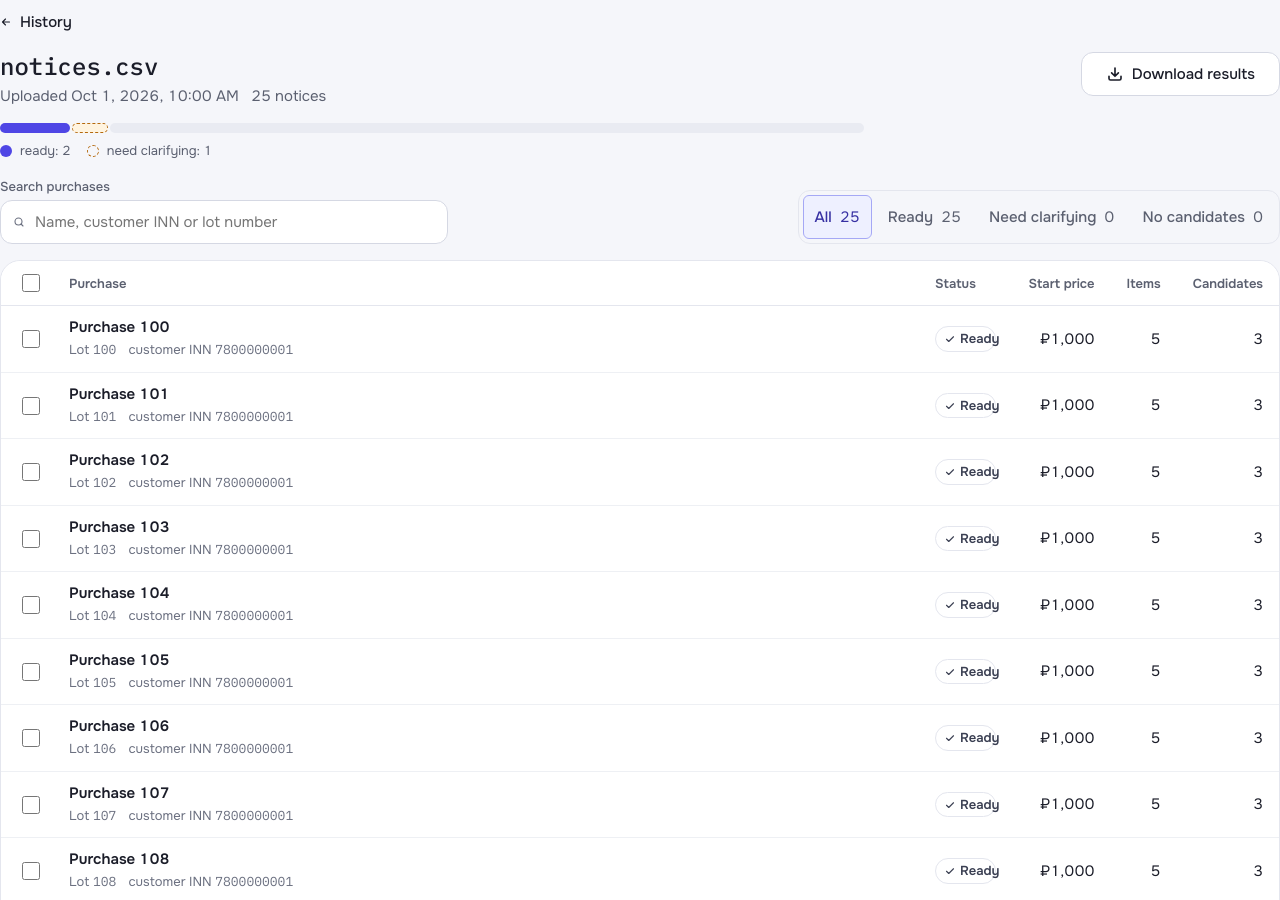
Test: the purchases list controls › clears the search with a button or Escape and focuses it with a slash
The image size is (1280, 900).
Type "101" into the search field labelled "Search purchases" at (240, 222), box [33,210,447,234]
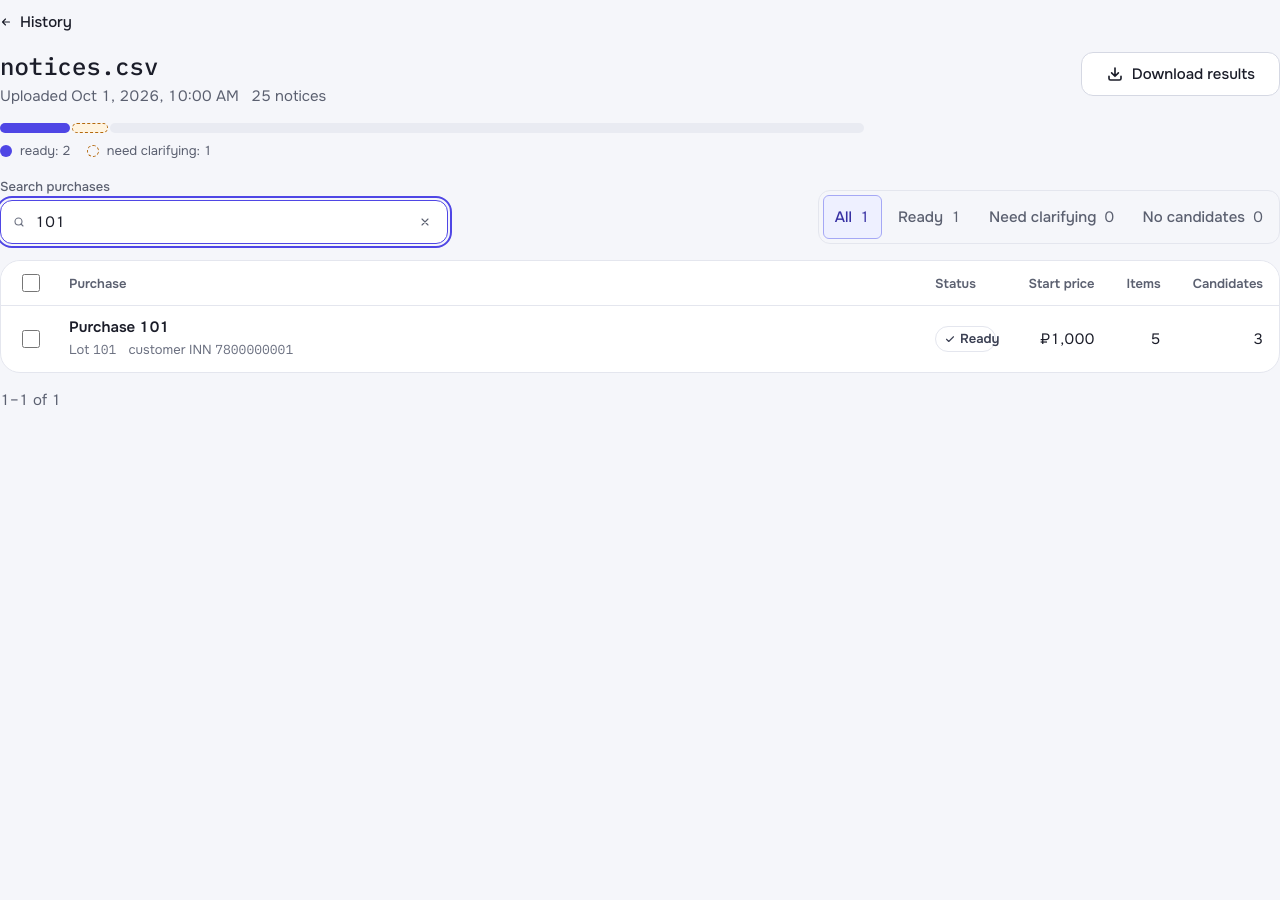
Click the button named "Clear search" at (425, 222), box [403,201,447,243]
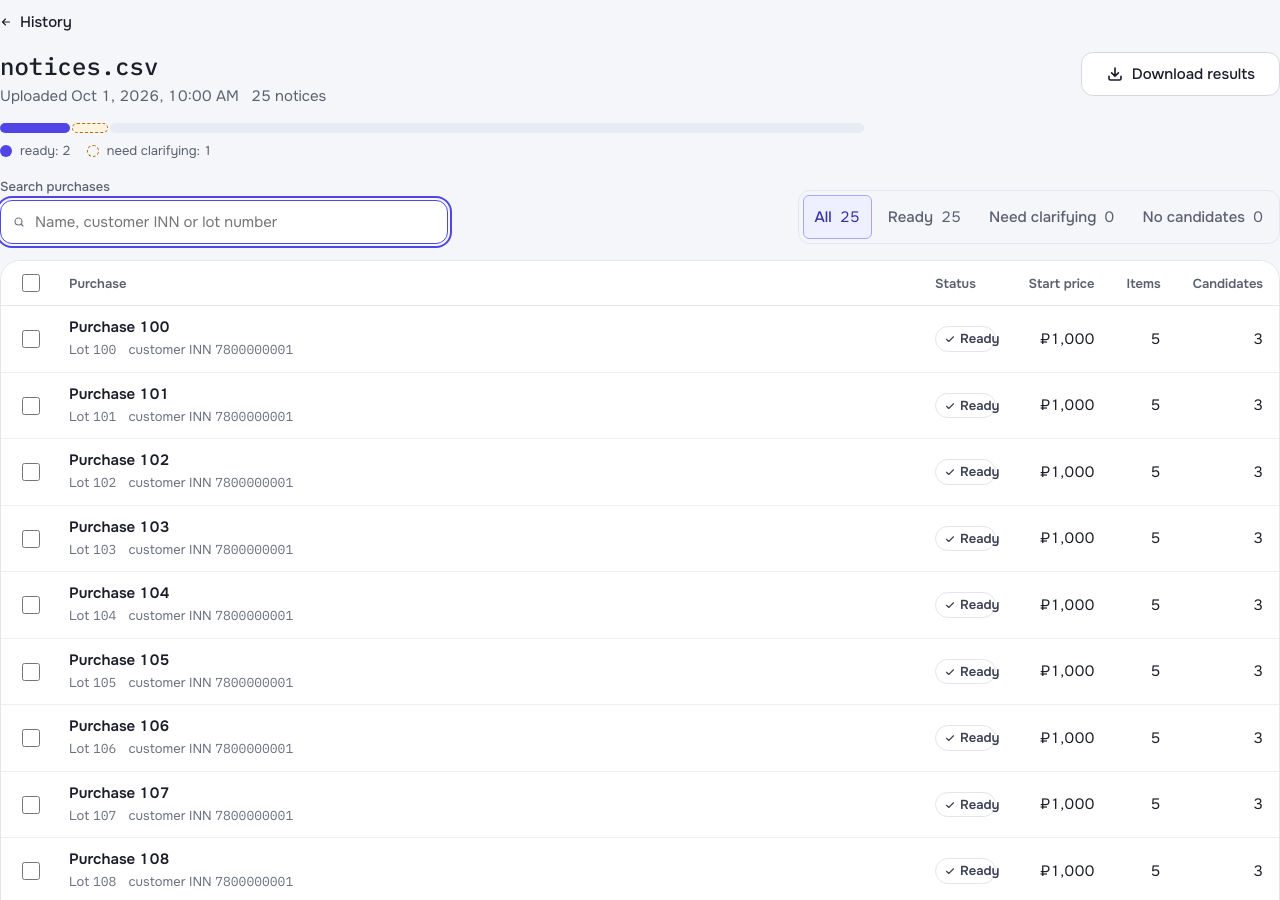
Type "10" into the search field labelled "Search purchases" at (240, 222), box [33,210,447,234]
Then press Escape
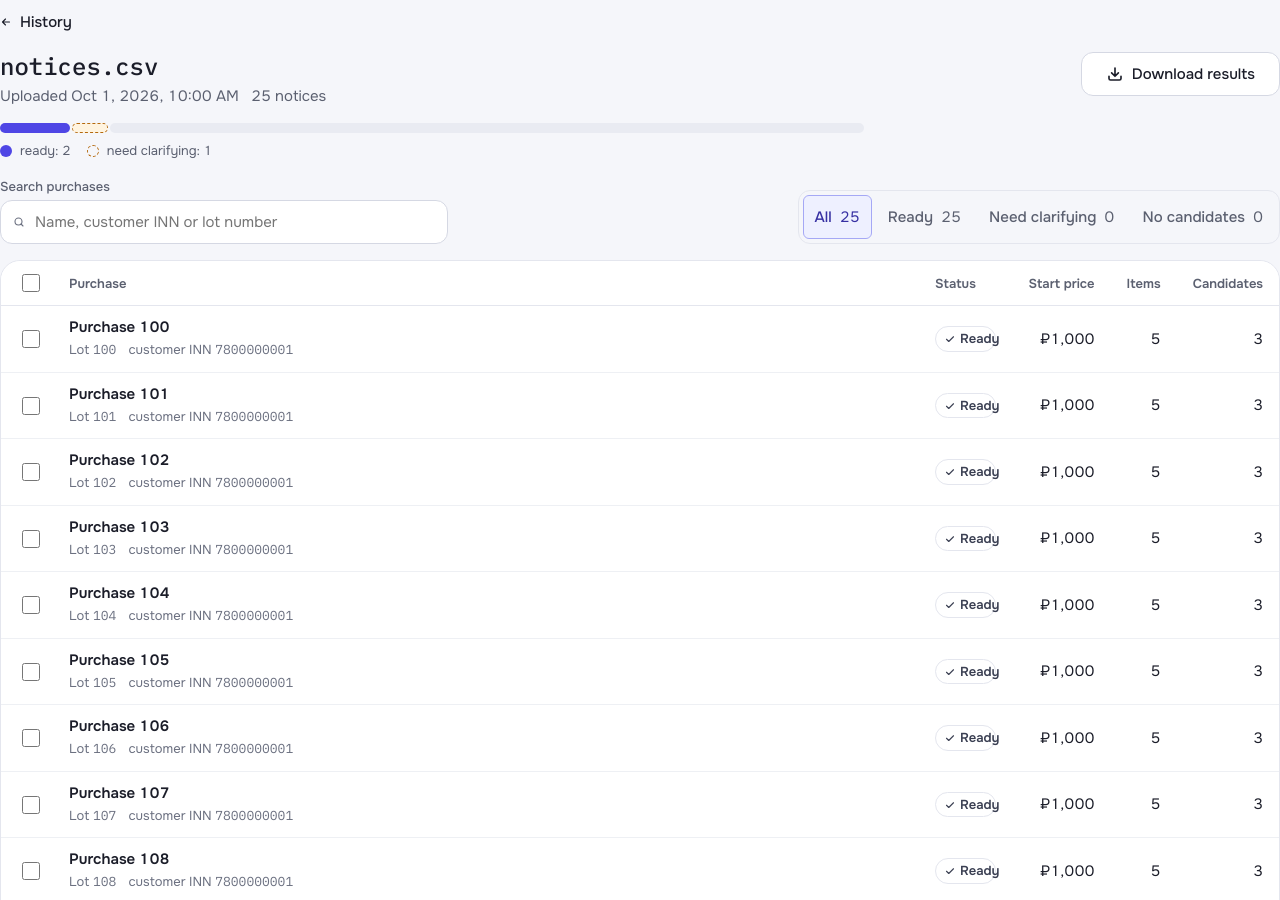
Type keys "/"
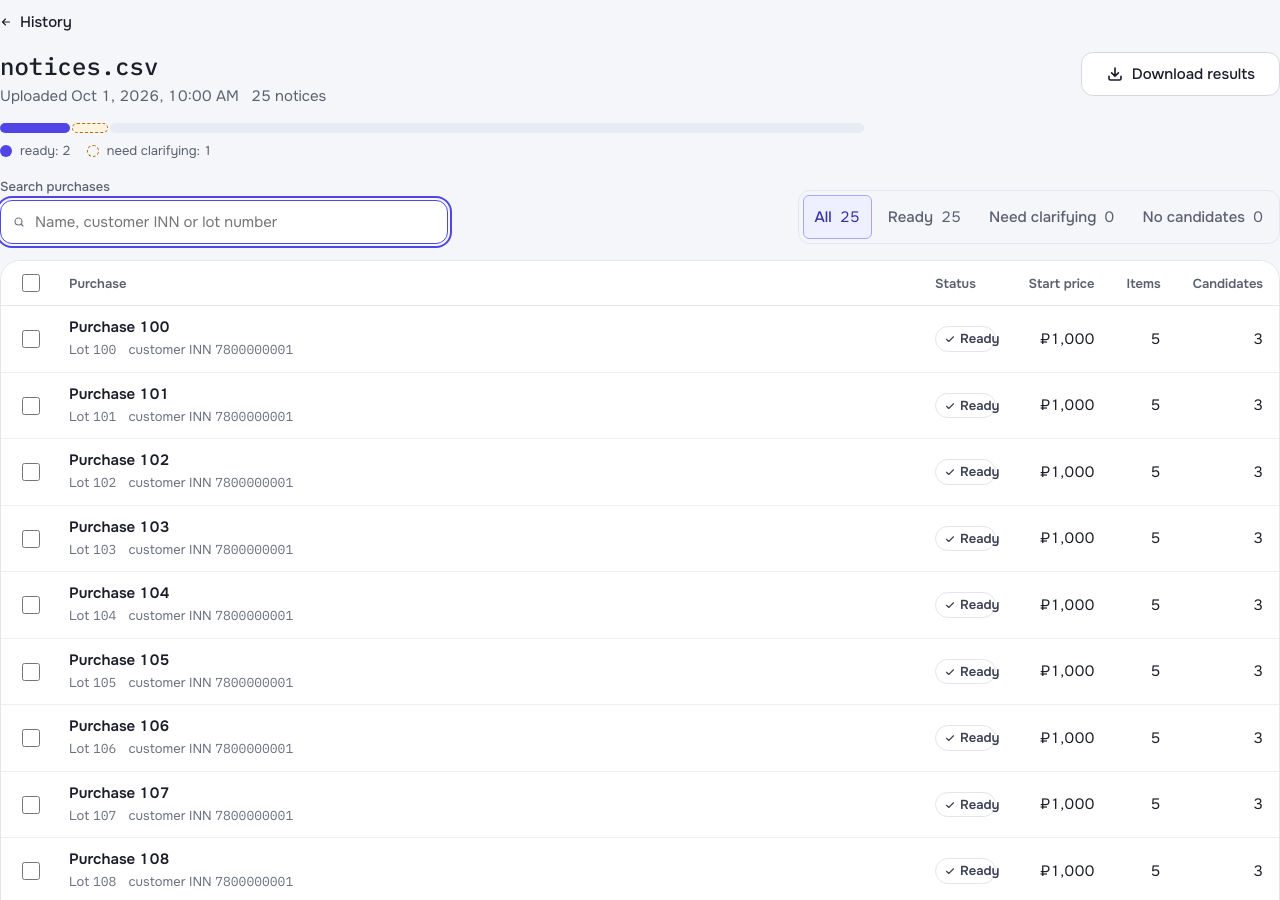
Result: the search field labelled "Search purchases" is empty at [33,210,447,234]
Type keys "/"
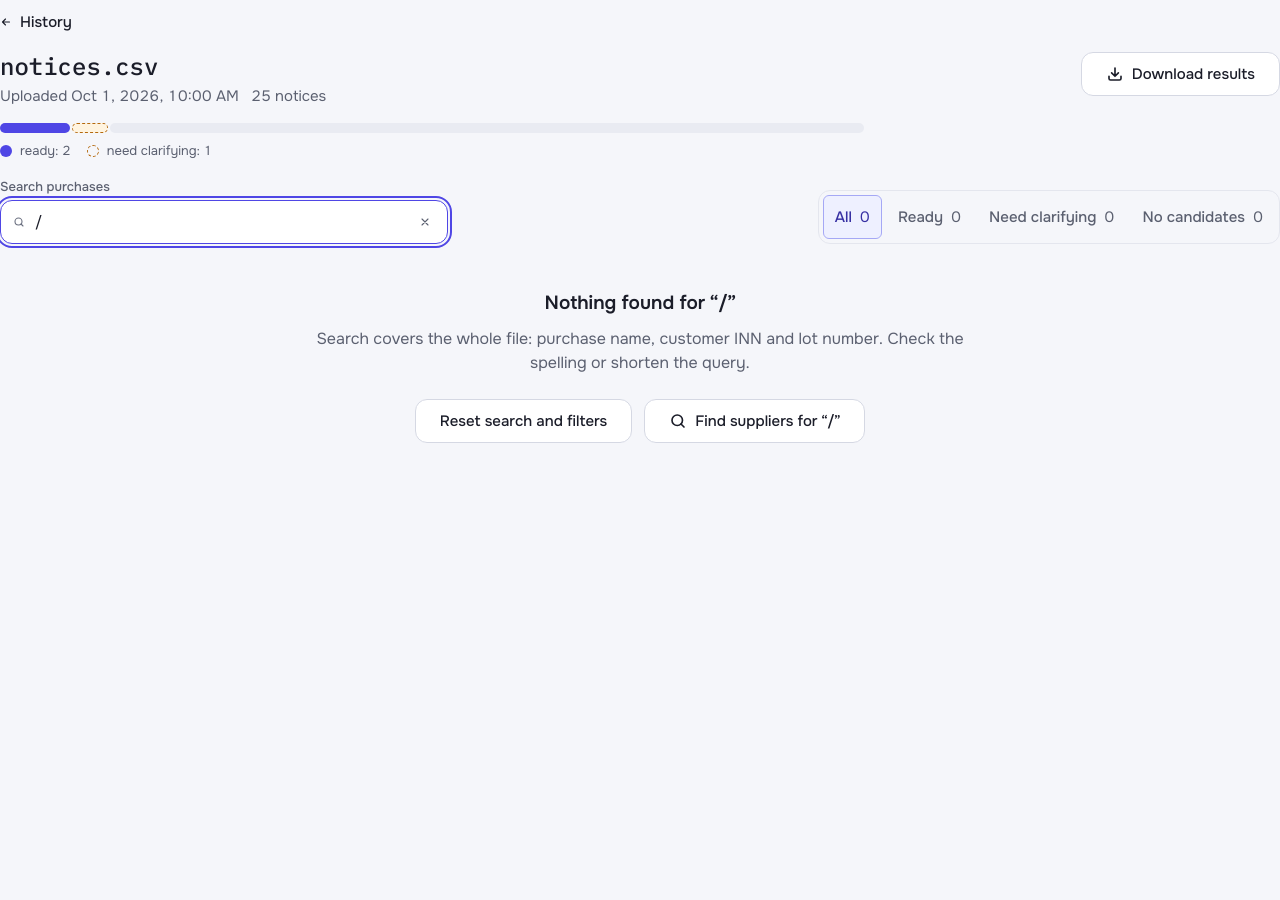
Result: the search field labelled "Search purchases" holds "/" at [33,210,395,234]
